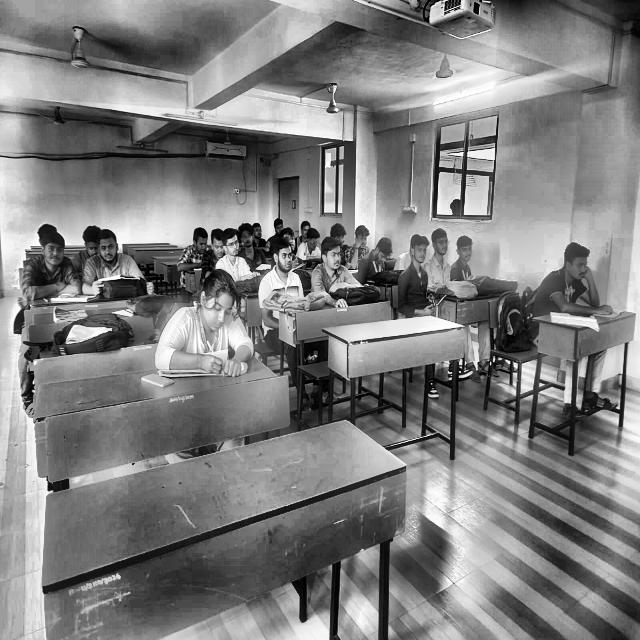Focus: (155, 287, 264, 362), (554, 226, 610, 309), (39, 225, 128, 274), (272, 244, 352, 296), (266, 218, 388, 249), (425, 228, 480, 288), (214, 233, 250, 271), (415, 222, 435, 278), (188, 228, 210, 260)
Not Focus: (86, 222, 130, 270), (378, 238, 394, 275)
